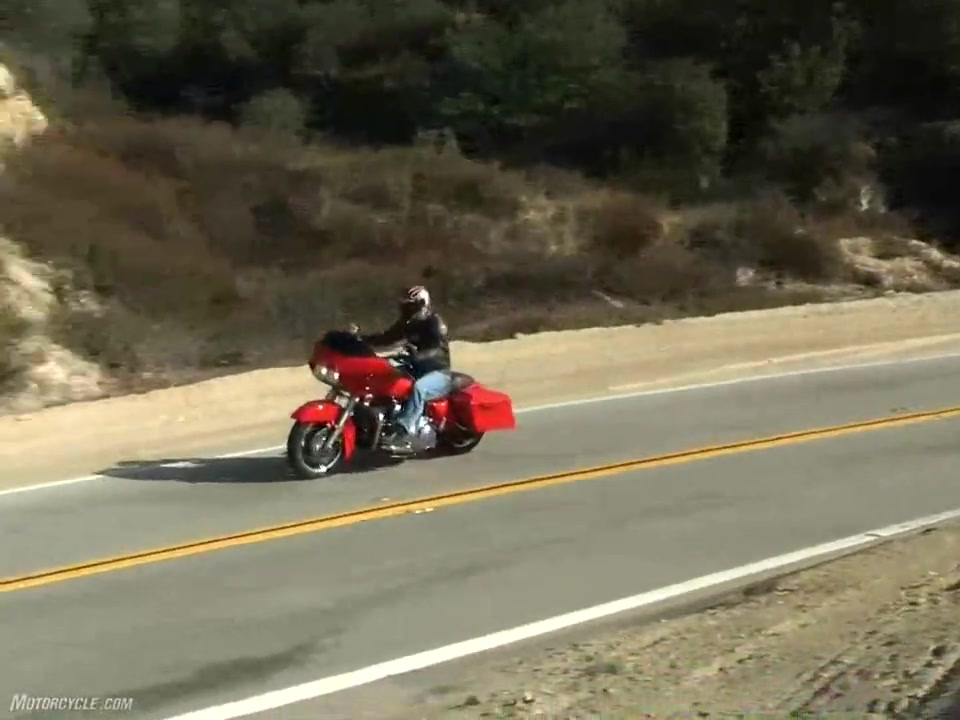motorbike: (284, 331, 521, 482)
